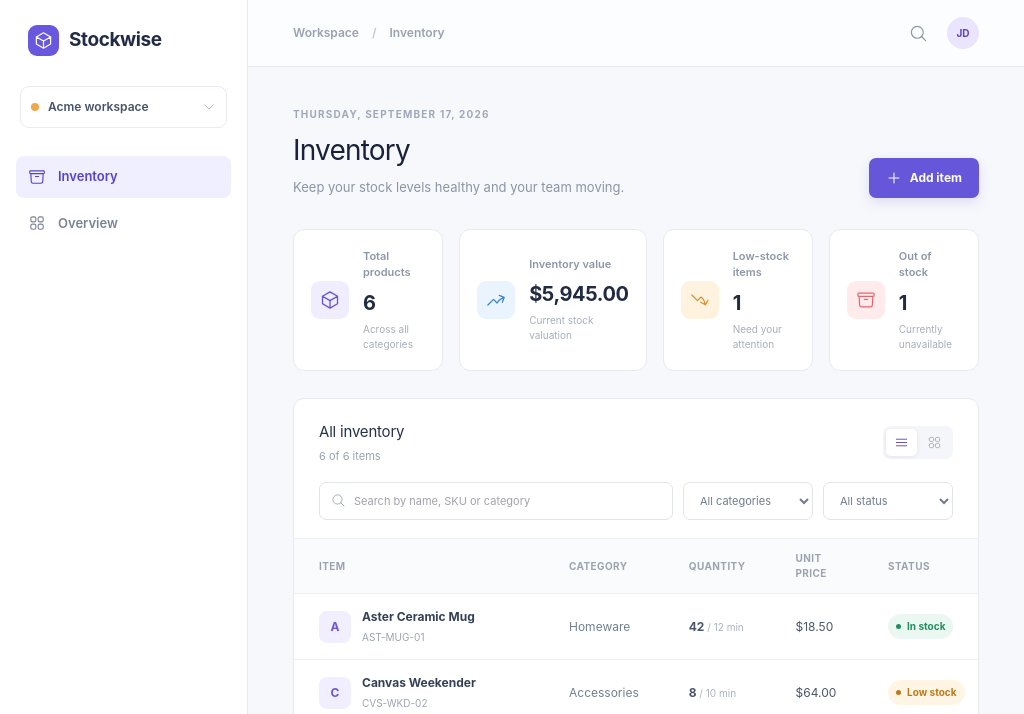
Scenario: Inventory dashboard › filters inventory by search term
The width and height of the screenshot is (1024, 714).
Type "planner" into the field with placeholder "Search by name, SKU or category" at (507, 501), box x1=354 y1=482 x2=661 y2=519
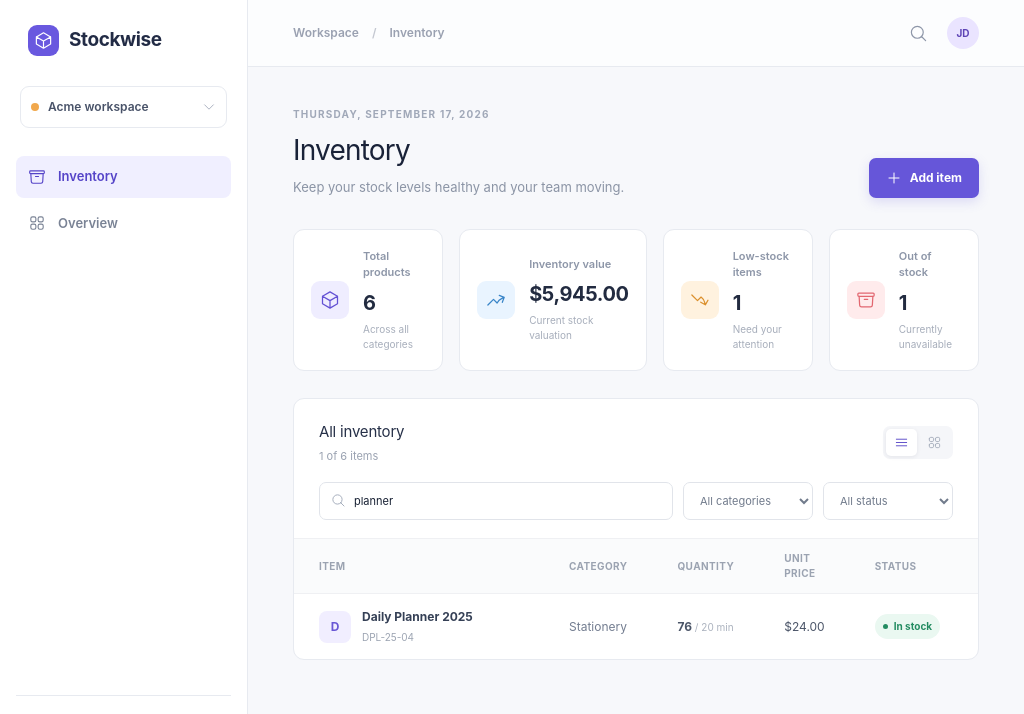
Expected: the text "Daily Planner 2025" is shown, x1=362 y1=608 x2=473 y2=626
Expected: the text "Aster Ceramic Mug" is gone
